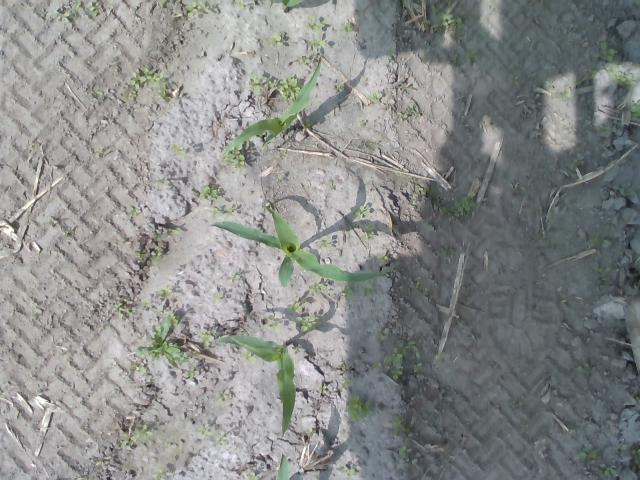Maize: (208, 204, 394, 289), (226, 56, 322, 151), (214, 334, 296, 434), (276, 0, 302, 17), (277, 454, 291, 480)
Weeds: (126, 308, 196, 378), (370, 327, 424, 382), (585, 38, 640, 90), (416, 185, 475, 217), (125, 63, 172, 101), (136, 227, 184, 264), (246, 71, 302, 100), (428, 0, 465, 39), (198, 183, 237, 217), (573, 447, 613, 479), (52, 0, 103, 24), (350, 202, 378, 239), (288, 304, 320, 334), (193, 426, 229, 449), (121, 427, 155, 451), (305, 16, 328, 50), (346, 396, 370, 423), (224, 145, 247, 168), (183, 0, 208, 19), (341, 286, 382, 296), (398, 106, 418, 126), (588, 236, 612, 251), (114, 302, 134, 320), (559, 88, 580, 104), (439, 244, 459, 260), (432, 352, 448, 371), (392, 414, 404, 438), (398, 444, 414, 460), (631, 446, 640, 474), (268, 30, 282, 48), (316, 238, 337, 250), (368, 90, 383, 106), (630, 100, 640, 124), (590, 266, 612, 276), (152, 465, 166, 480), (342, 467, 358, 480), (464, 50, 480, 63), (215, 388, 229, 402), (575, 364, 591, 376), (310, 282, 326, 294), (302, 117, 314, 132), (198, 333, 211, 346), (128, 206, 141, 219), (172, 146, 186, 158), (376, 253, 392, 263), (341, 22, 354, 34), (242, 350, 256, 361), (159, 287, 173, 298), (508, 75, 520, 87), (224, 273, 242, 281), (212, 293, 226, 303), (272, 320, 282, 333), (297, 55, 311, 64), (414, 278, 424, 290), (235, 0, 248, 9), (316, 384, 326, 394), (142, 299, 150, 308), (248, 474, 260, 480)
